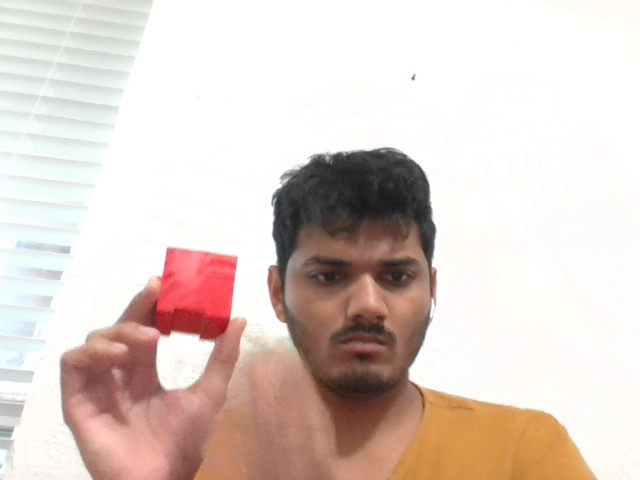RedBlock: (156, 243, 237, 336)
